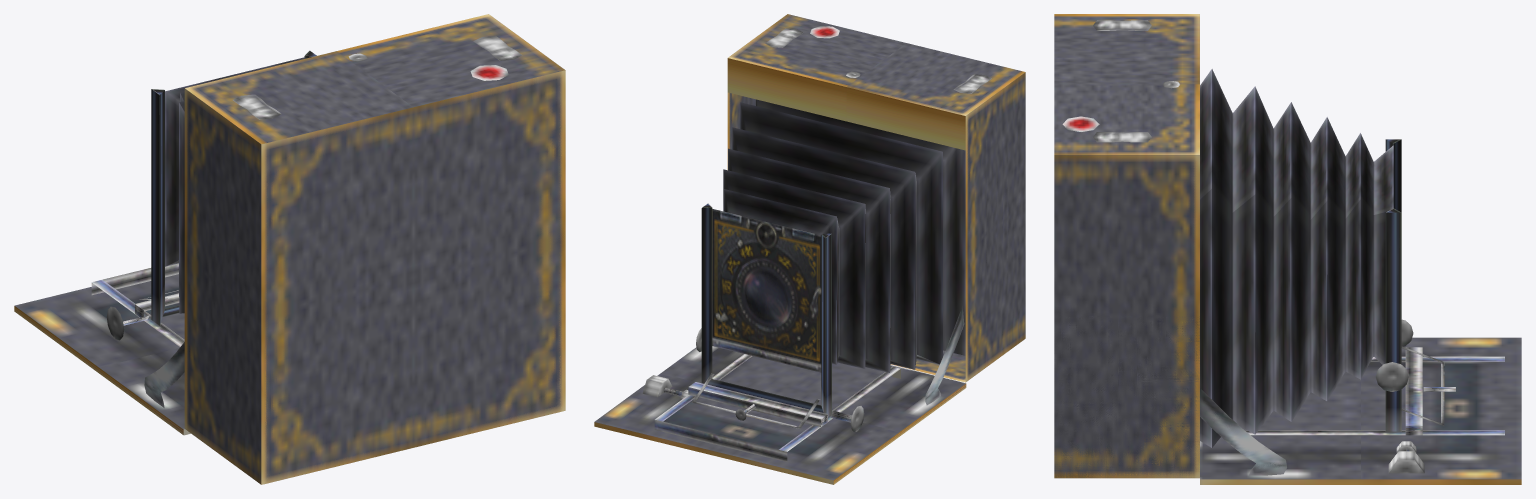
File: zero.ico.obj
3 renders of one model, left to right at view 1: azimuth 30°, elevation 25°; view 2: azimuth 150°, elevation 25°; view 3: azimuth 270°, elevation 25°, orthographic. The views are drawn at different scales.
Size of the model in its own units: 2.67 by 2.92 by 3.72.
Materials: 1 (1 with a texture image).
